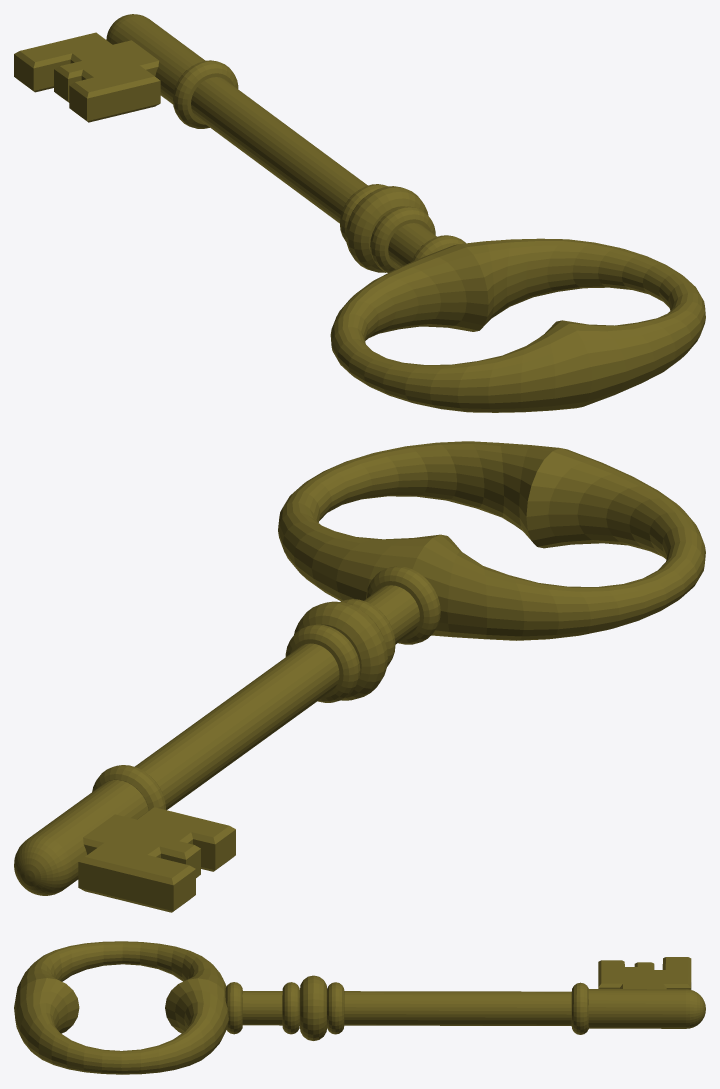
File: Key.fbx
3 views of the same model, one above another, from view 1: azimuth 30°, elevation 25°; view 2: azimuth 150°, elevation 25°; view 3: azimuth 270°, elevation 25° (orthographic). The views are drawn at different scales.
Parts seen in each view (by area): view 1: Key:Null_1Sweep, Key:Null_1Cylinder, Key:Null_1ExtrudeRounding_1Cap_1, Key:Null_1Extrude, Key:Null_1Capsule, Key:Null_1Torus_2, Key:Null_1Torus_4, Key:Null_1Torus_1, Key:Null_1ExtrudeRounding_1, Key:Null_1Torus_3; view 2: Key:Null_1Sweep, Key:Null_1Cylinder, Key:Null_1Capsule, Key:Null_1ExtrudeRounding_1Cap_1, Key:Null_1Extrude, Key:Null_1Torus_2, Key:Null_1Torus, Key:Null_1Torus_3, Key:Null_1ExtrudeRounding_1, Key:Null_1Torus_4, Key:Null_1Torus_1; view 3: Key:Null_1Sweep, Key:Null_1Cylinder, Key:Null_1Capsule, Key:Null_1ExtrudeRounding_1Cap_1, Key:Null_1Torus_2, Key:Null_1Torus_1, Key:Null_1Torus_3, Key:Null_1Torus_4, Key:Null_1Torus, Key:Null_1ExtrudeRounding_1.
Part boxes in pixels (<box>): Key:Null_1Sweep: <box>330,238,705,412</box>; Key:Null_1Cylinder: <box>191,77,436,267</box>; Key:Null_1ExtrudeRounding_1Cap_1: <box>20,32,158,92</box>; Key:Null_1Extrude: <box>14,54,160,121</box>; Key:Null_1Capsule: <box>106,14,205,104</box>; Key:Null_1Torus_2: <box>346,186,428,272</box>; Key:Null_1Torus_4: <box>173,60,238,128</box>; Key:Null_1Torus_1: <box>370,206,435,272</box>; Key:Null_1ExtrudeRounding_1: <box>14,51,160,98</box>; Key:Null_1Torus_3: <box>340,184,387,242</box>; Key:Null_1Sweep: <box>278,441,705,640</box>; Key:Null_1Cylinder: <box>134,585,419,810</box>; Key:Null_1Capsule: <box>14,780,148,895</box>; Key:Null_1ExtrudeRounding_1Cap_1: <box>83,807,228,878</box>; Key:Null_1Extrude: <box>78,829,235,911</box>; Key:Null_1Torus_2: <box>294,601,387,700</box>; Key:Null_1Torus: <box>366,566,440,644</box>; Key:Null_1Torus_3: <box>285,624,360,702</box>; Key:Null_1ExtrudeRounding_1: <box>78,826,235,885</box>; Key:Null_1Torus_4: <box>92,765,166,810</box>; Key:Null_1Torus_1: <box>340,599,395,666</box>; Key:Null_1Sweep: <box>14,941,228,1074</box>; Key:Null_1Cylinder: <box>225,991,571,1025</box>; Key:Null_1Capsule: <box>588,989,705,1028</box>; Key:Null_1ExtrudeRounding_1Cap_1: <box>601,957,688,989</box>; Key:Null_1Torus_2: <box>299,975,326,1040</box>; Key:Null_1Torus_1: <box>282,982,299,1034</box>; Key:Null_1Torus_3: <box>327,982,344,1034</box>; Key:Null_1Torus_4: <box>571,982,588,1034</box>; Key:Null_1Torus: <box>225,982,242,1034</box>; Key:Null_1ExtrudeRounding_1: <box>598,957,691,989</box>.
Bounding box in the file's own units: 124 × 28.82 × 303.
